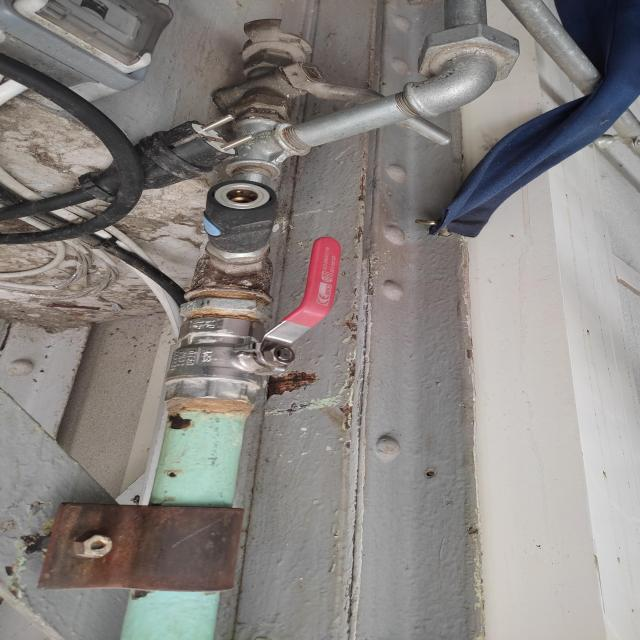opened_valve: (170, 232, 354, 403)
